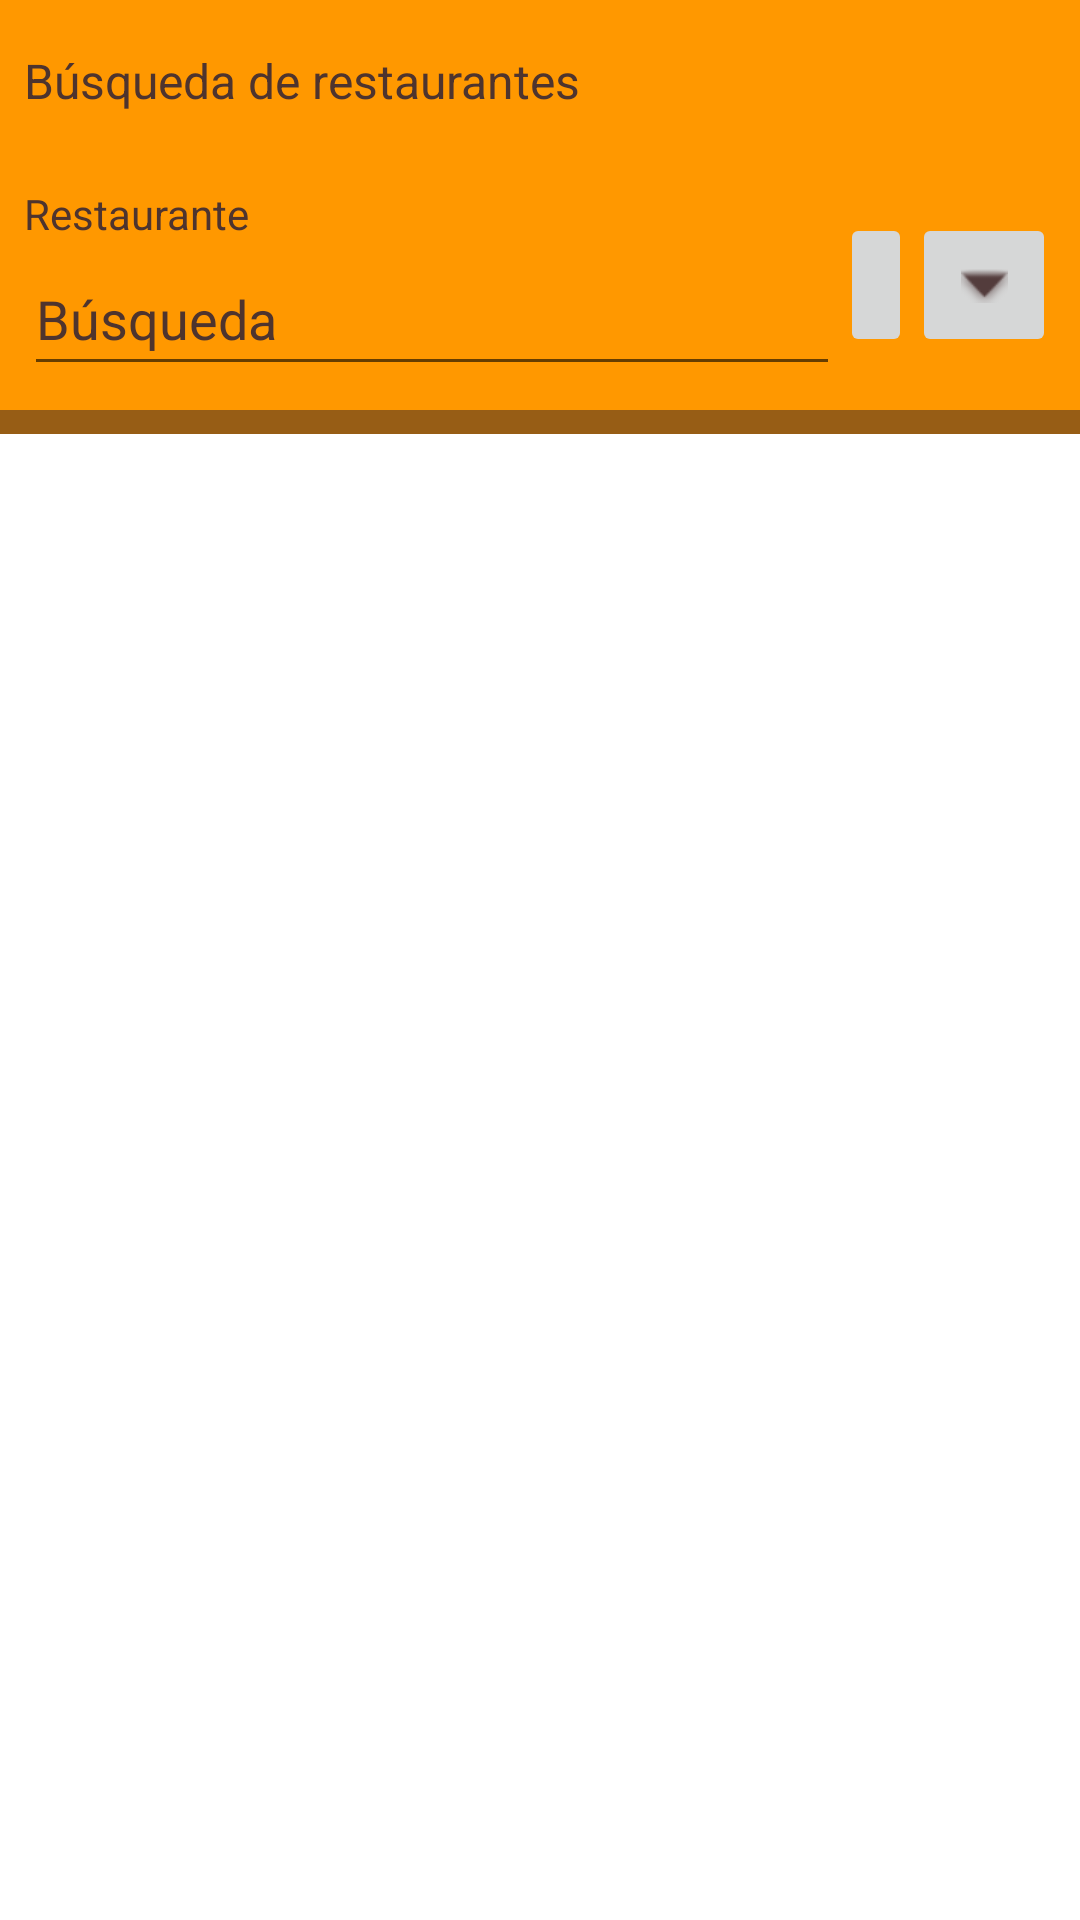

Screen size 1080×1920. Icon name, then its box in pixels as region(x1, y1, x2, y2):
arrow down float: region(924, 231, 1044, 339)
